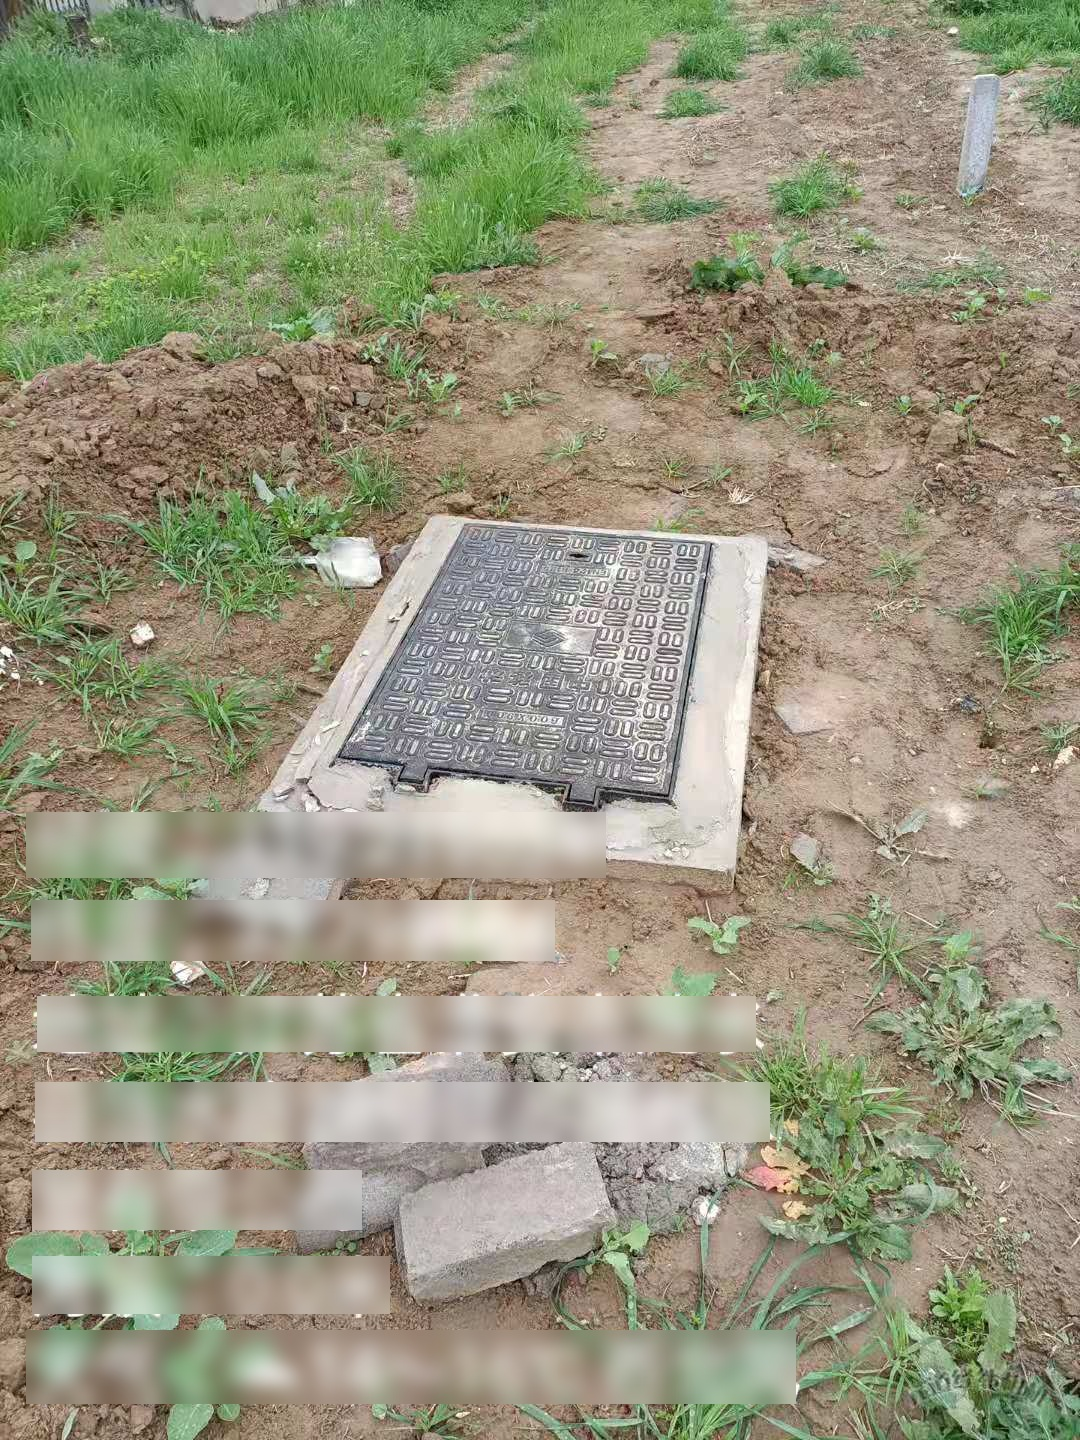well: (294, 515, 760, 864)
